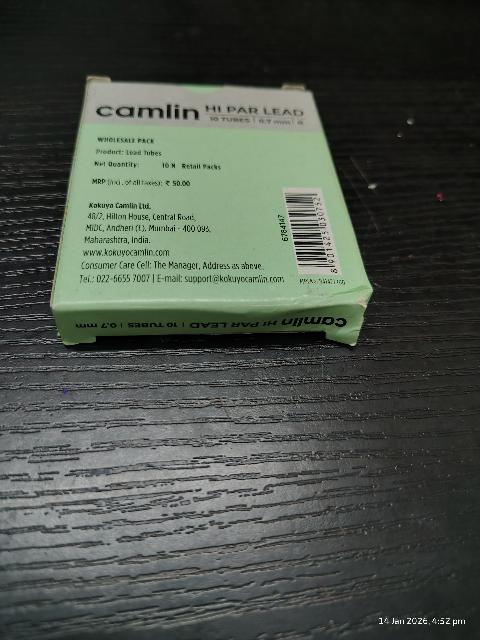camlin lids: (61, 80, 339, 336)
